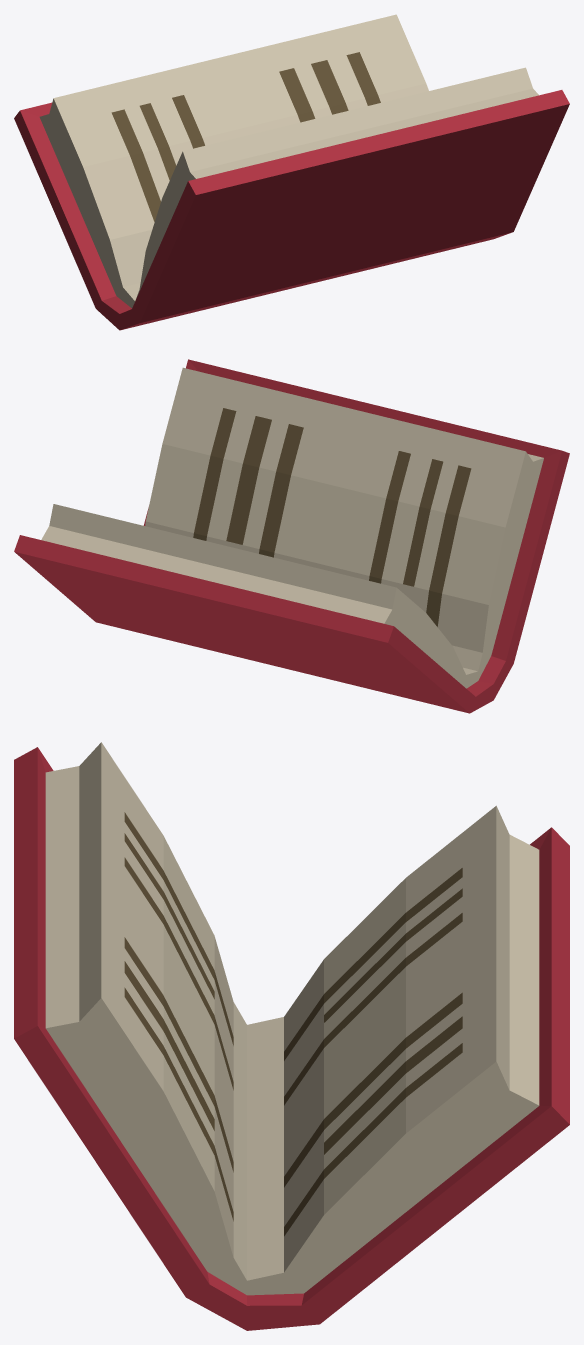
The model's file is Book3.glb.
The picture shows the model from 3 angles, top to bottom: view 1: azimuth 30°, elevation 25°; view 2: azimuth 150°, elevation 25°; view 3: azimuth 270°, elevation 25°; orthographic projection. The views are drawn at different scales.
Visible parts, largest first — view 1: Book3; view 2: Book3; view 3: Book3.
Boxes of the visible parts, left/top/right/bottom form: Book3: left=14, top=14, right=569, bottom=330; Book3: left=14, top=359, right=569, bottom=713; Book3: left=14, top=742, right=569, bottom=1330.
Size of the model in its own units: 1.19 by 0.6418 by 1.01.
